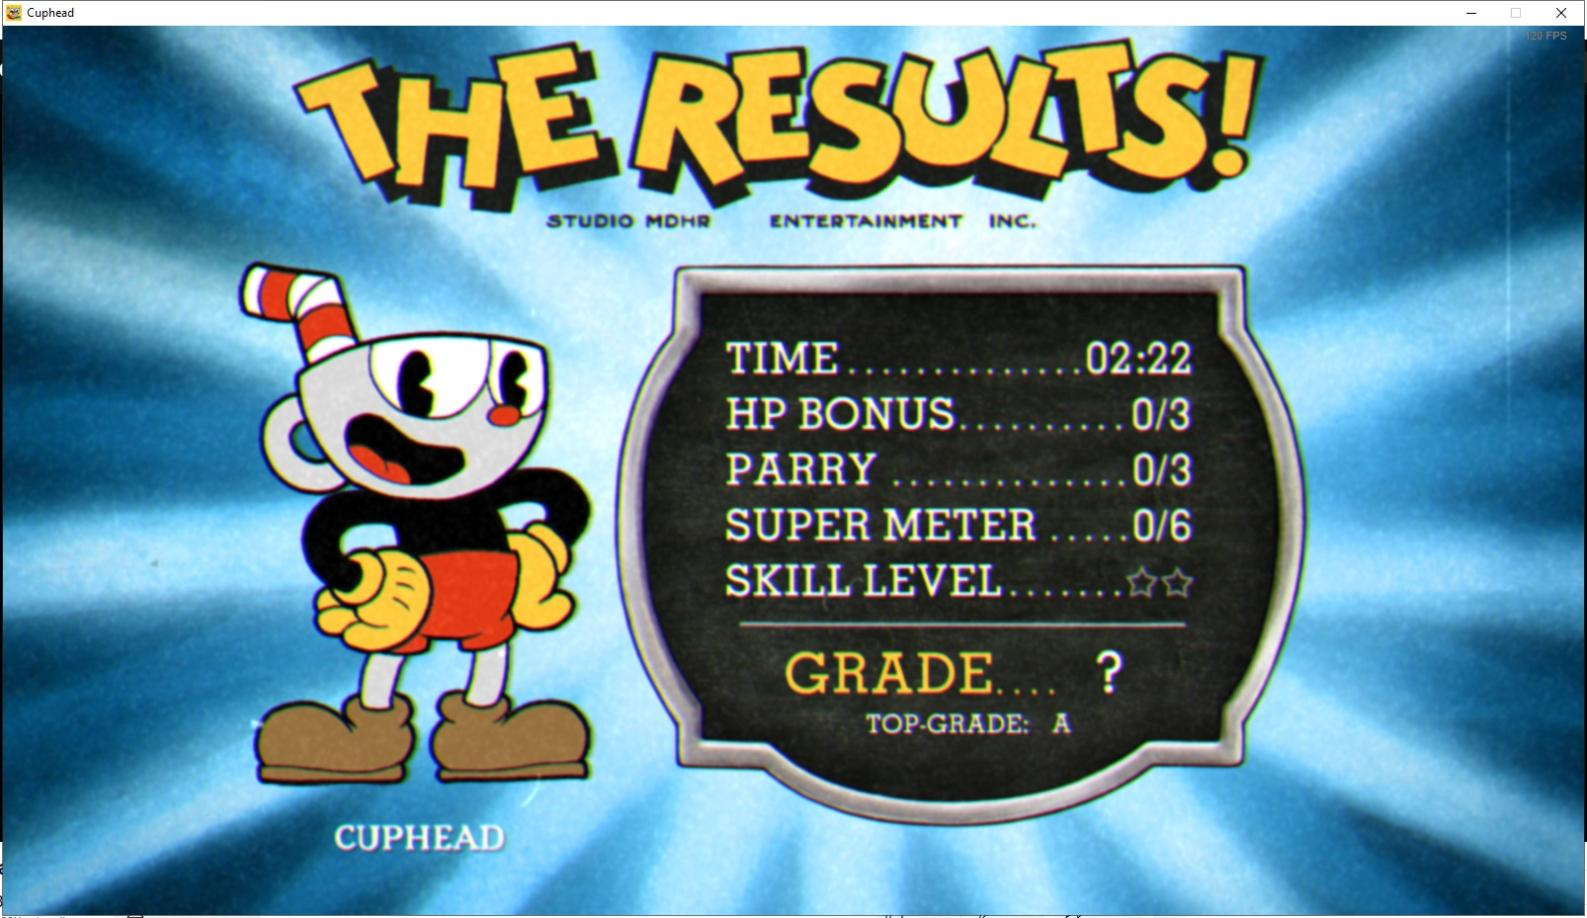win_results: (286, 37, 1299, 237)
